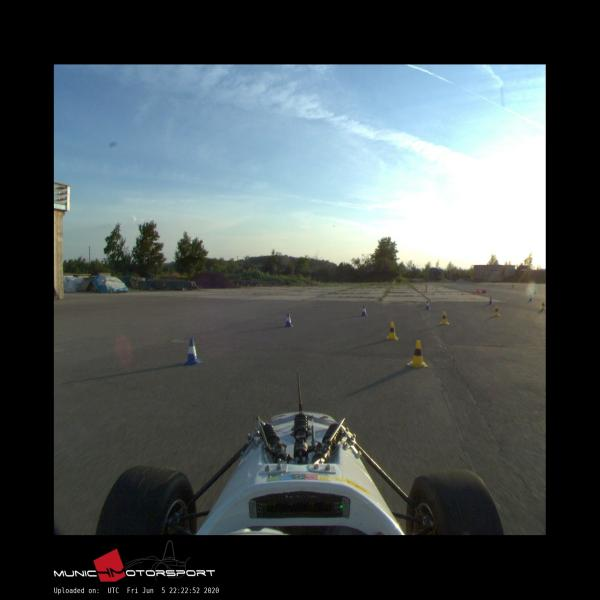blue_cone: (183, 339, 202, 365), (284, 313, 294, 327), (360, 306, 368, 316), (425, 301, 430, 309)
yellow_cone: (407, 340, 428, 368), (386, 321, 398, 340), (439, 310, 449, 325), (493, 305, 500, 316)
